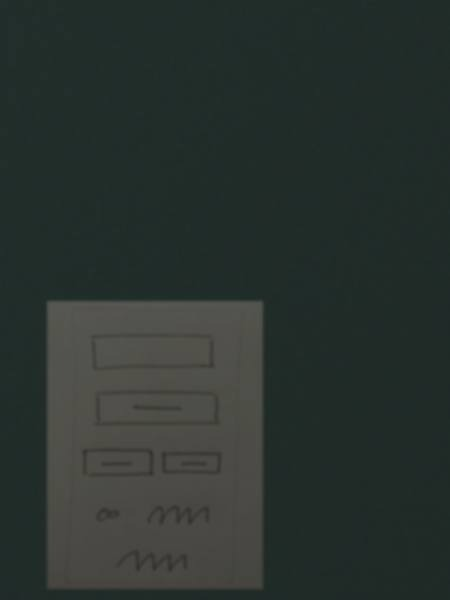button: (88, 388, 223, 429), (78, 444, 156, 480), (158, 446, 226, 478)
switch: (91, 502, 125, 525)
text: (111, 545, 192, 577), (141, 502, 213, 530)
text_input: (88, 331, 218, 375)
